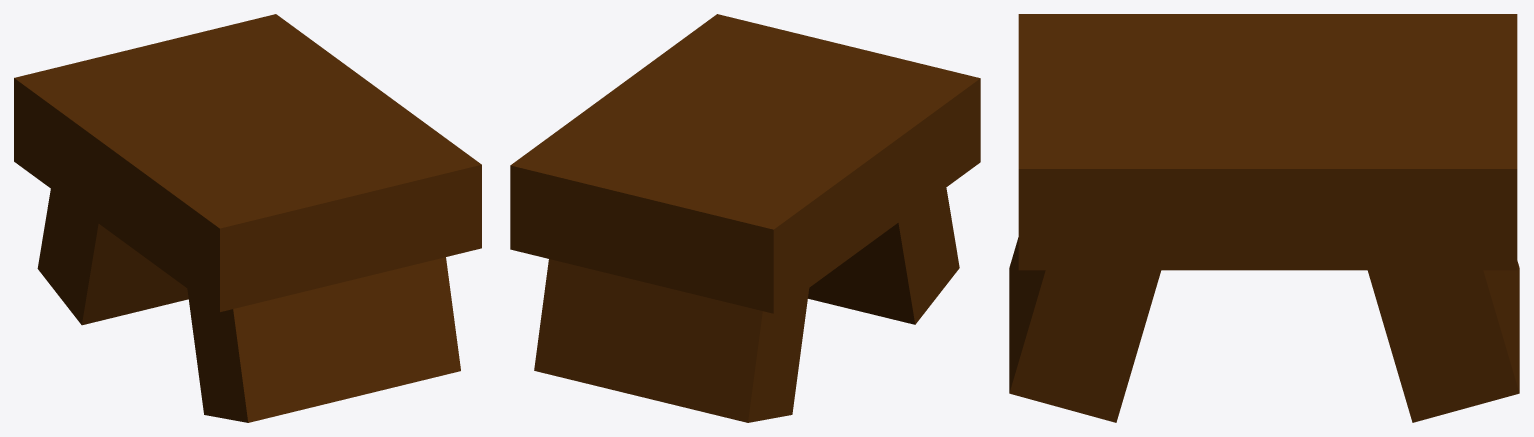
Rendered from step-stool.glb.
The picture shows the model from 3 angles, left to right: view 1: azimuth 30°, elevation 25°; view 2: azimuth 150°, elevation 25°; view 3: azimuth 270°, elevation 25°; orthographic projection. The views are drawn at different scales.
Visible parts, largest first — view 1: step-stool; view 2: step-stool; view 3: step-stool.
Part boxes in pixels (<box>): step-stool: <box>14,14,481,422</box>; step-stool: <box>510,14,980,422</box>; step-stool: <box>1009,14,1519,422</box>.
Bounding box in the file's own units: 0.4251 × 0.3439 × 0.5918.
